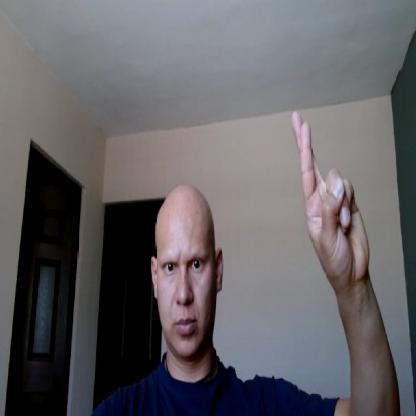R: (290, 107, 372, 281)
